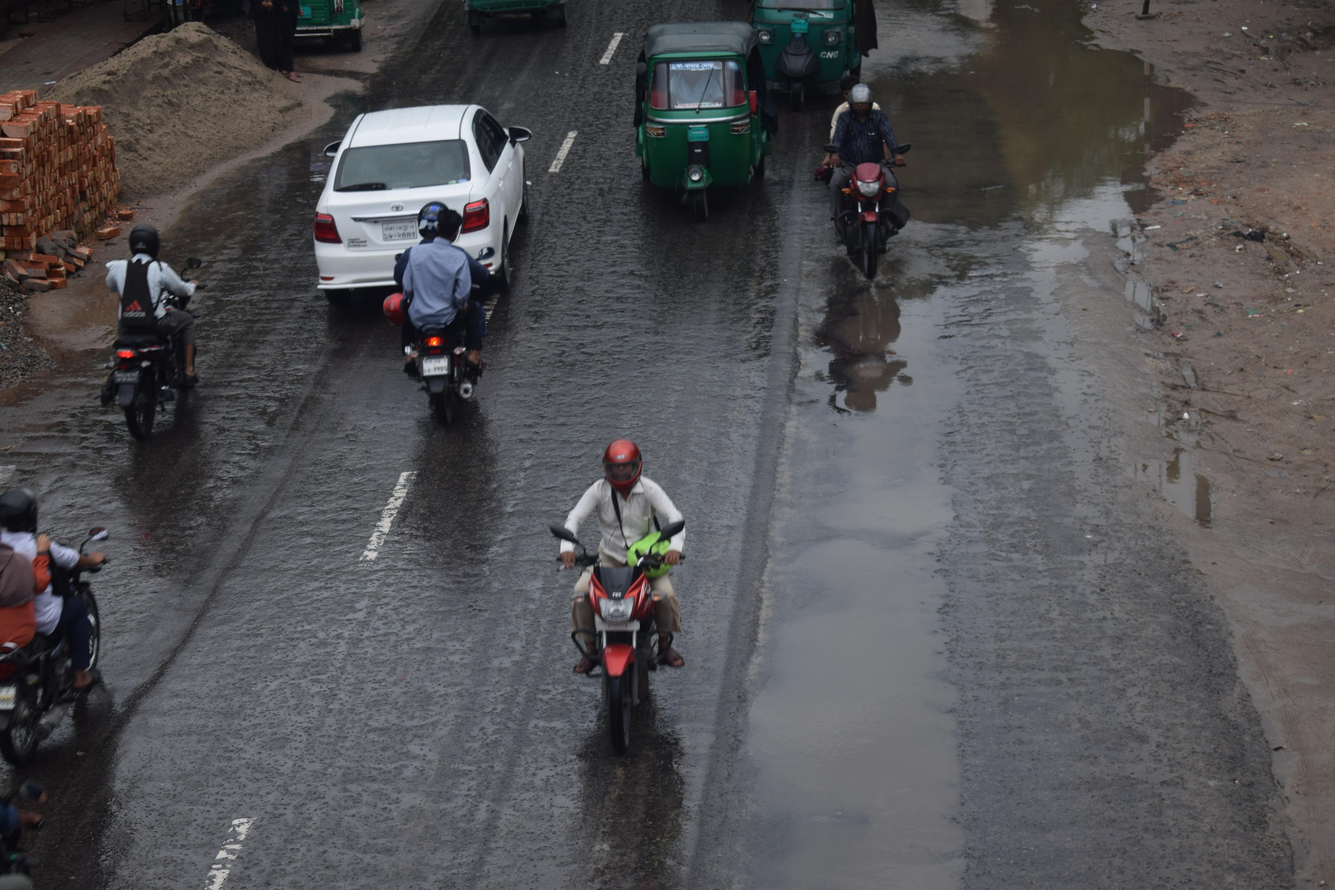Bike: (488, 389, 747, 797), (59, 207, 257, 467), (349, 188, 519, 455), (0, 441, 124, 784), (793, 64, 928, 307)
Car: (268, 85, 551, 321)
